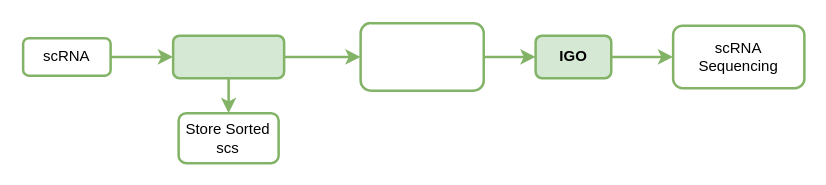
This 826x185 diagram has some shape labels left out. Each missing label, with the centre of its shape:
"10X cDNA and Library Prep" goes at point (421, 56).
"GYN Lab" goes at point (228, 56).
